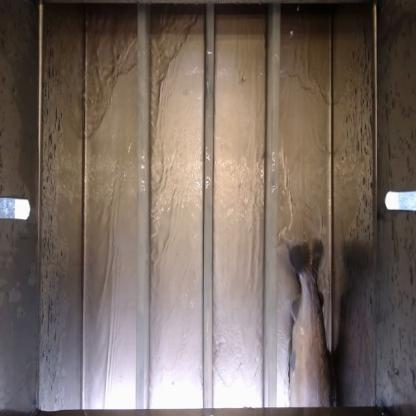pezw: (284, 237, 334, 408)
